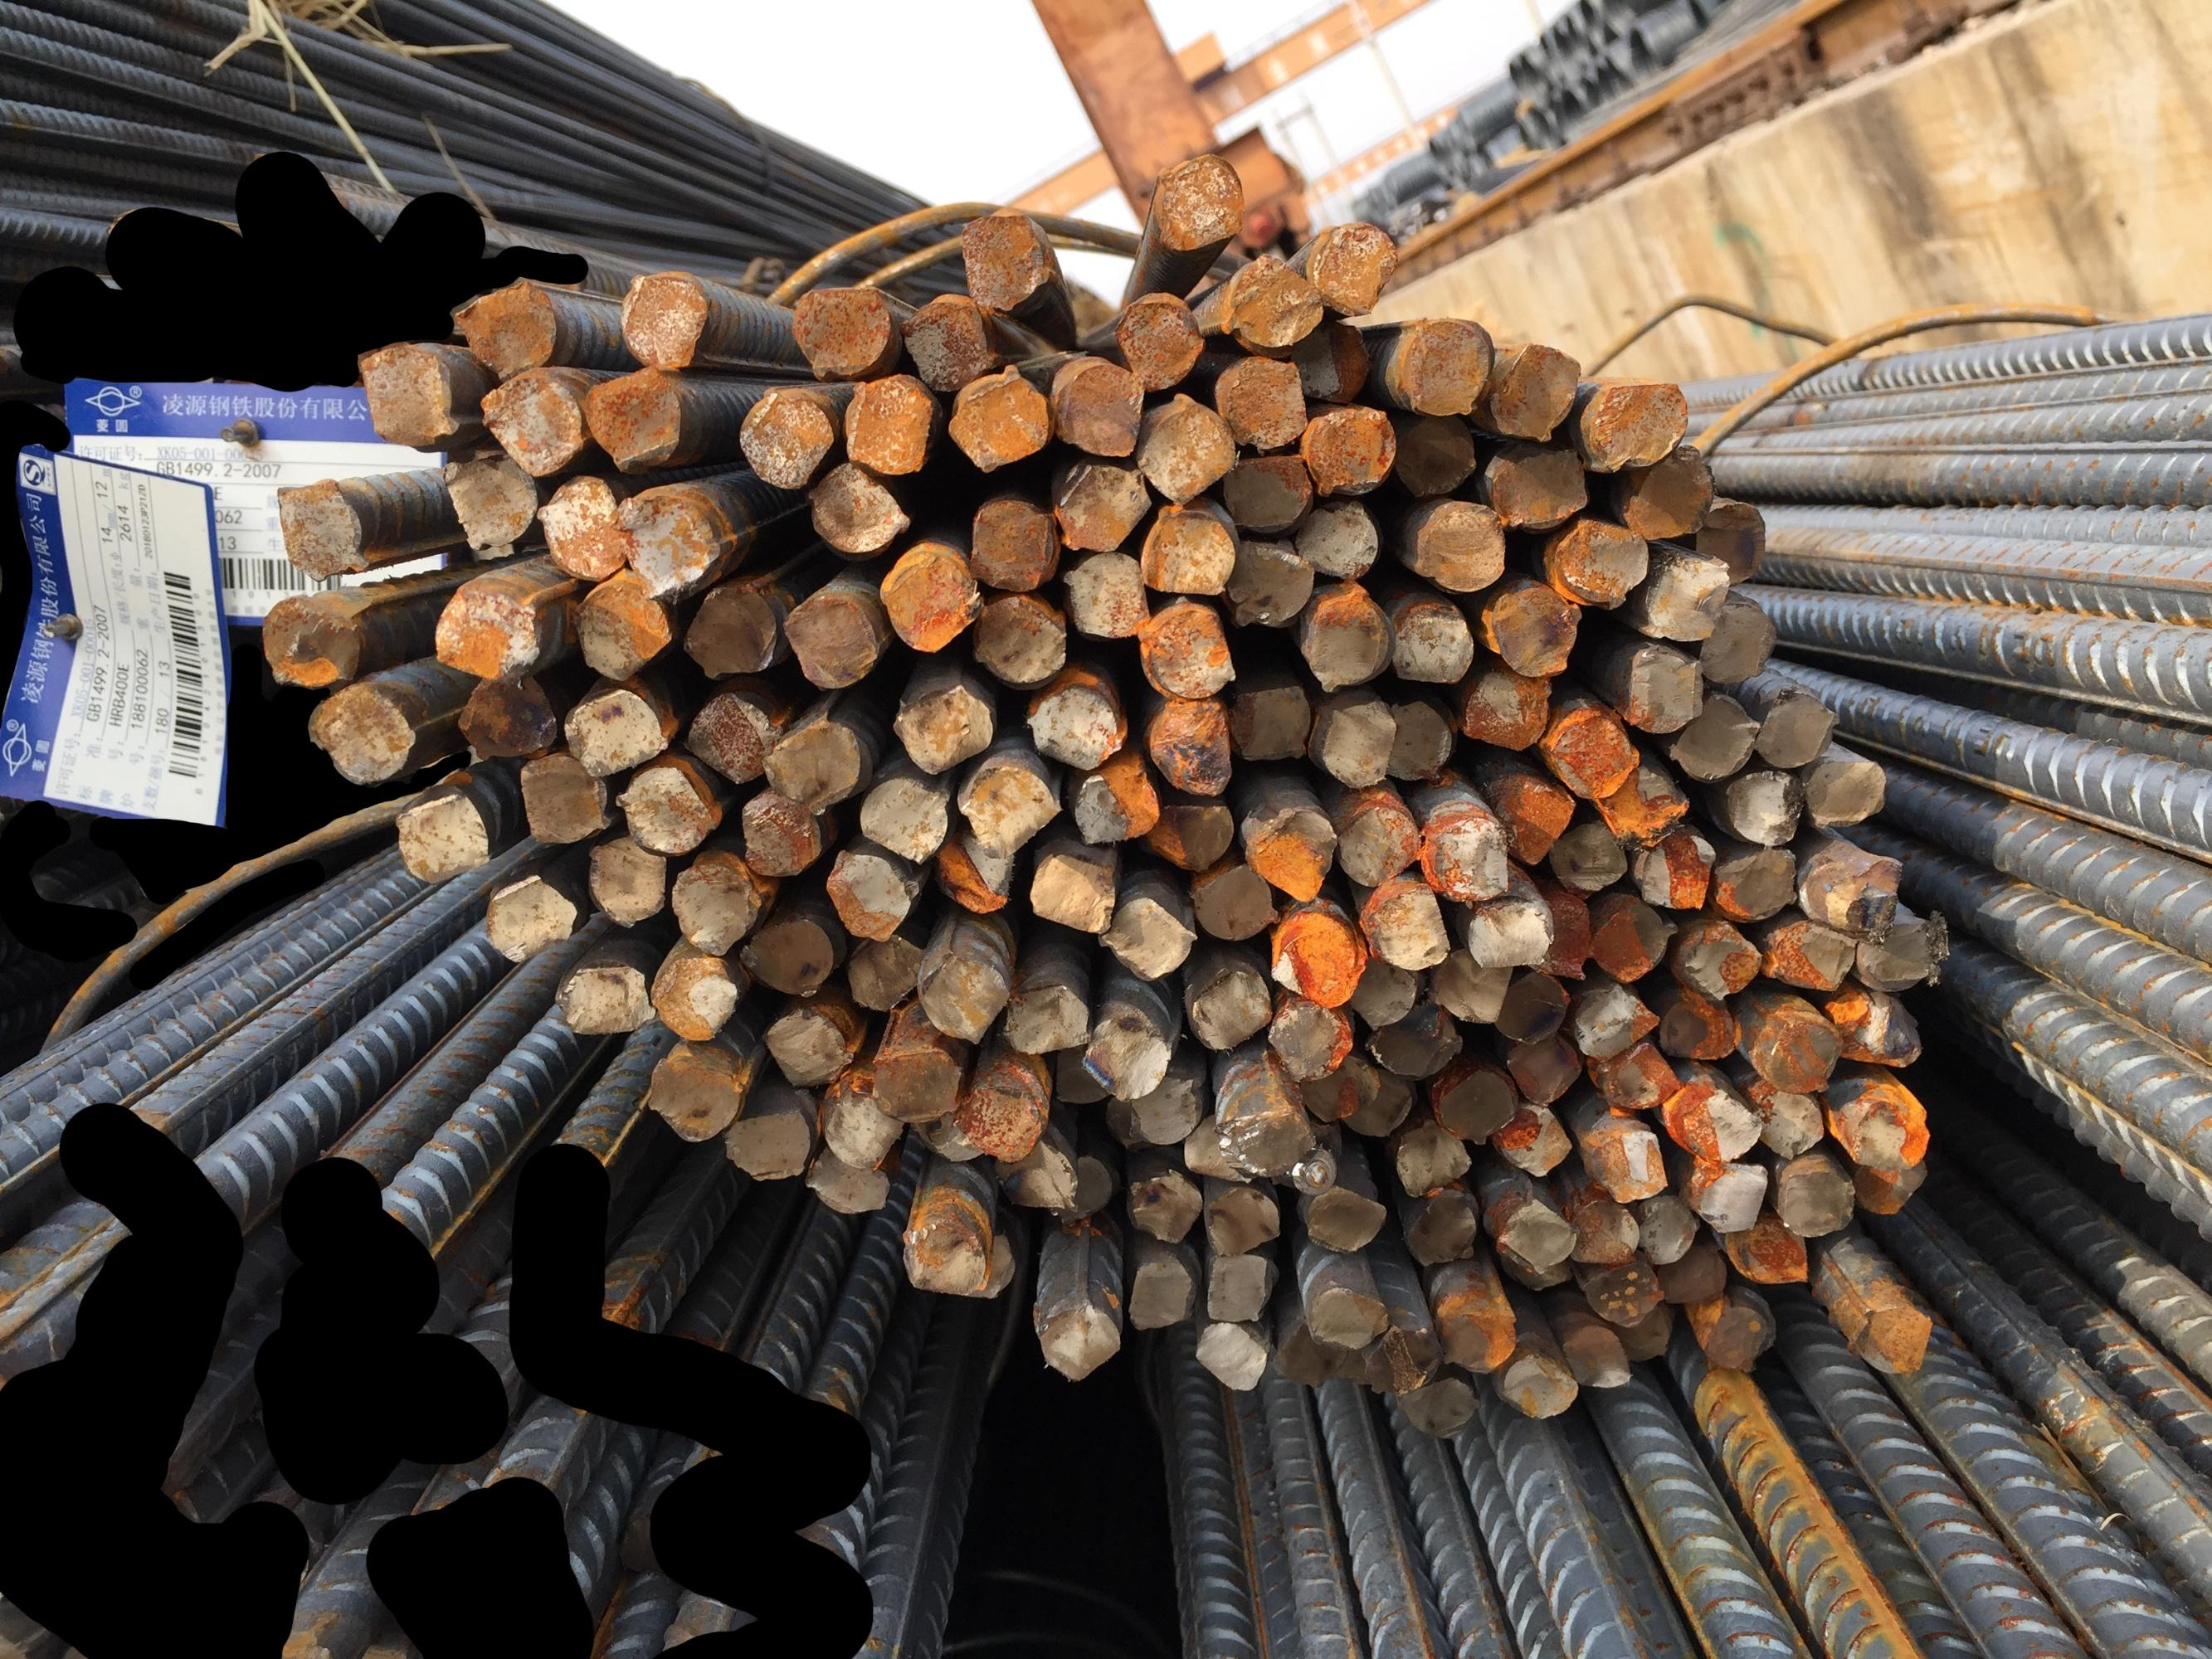bar: (603, 486, 722, 606), (469, 362, 587, 479), (868, 547, 988, 653), (295, 685, 420, 786), (565, 570, 675, 683), (943, 362, 1056, 472), (431, 573, 547, 680), (450, 268, 558, 382), (1131, 390, 1236, 507), (577, 356, 683, 469), (443, 664, 561, 762), (432, 448, 539, 556), (560, 681, 673, 781), (788, 279, 894, 383), (270, 474, 370, 586), (1795, 845, 1909, 943), (777, 589, 880, 695), (383, 784, 492, 885), (734, 383, 835, 491), (1611, 439, 1719, 540), (512, 748, 622, 847), (1541, 514, 1651, 613), (612, 268, 715, 373), (758, 711, 861, 816), (805, 457, 910, 559), (894, 295, 999, 397), (1388, 317, 1492, 420), (671, 579, 777, 680), (1480, 443, 1598, 533), (908, 946, 1016, 1046), (253, 594, 364, 690), (1293, 580, 1388, 694), (966, 591, 1070, 692), (1269, 903, 1368, 1009), (1414, 803, 1513, 910), (1142, 685, 1236, 796), (1485, 340, 1584, 444), (357, 347, 458, 448), (678, 683, 779, 784), (950, 209, 1051, 310), (1107, 291, 1208, 392), (1225, 249, 1325, 352), (1150, 148, 1246, 254), (1347, 875, 1454, 971), (535, 474, 628, 584), (891, 680, 992, 779), (1137, 601, 1236, 702), (1407, 497, 1508, 596), (614, 762, 716, 859), (814, 840, 912, 943), (959, 762, 1063, 857), (1584, 380, 1694, 471), (1210, 350, 1309, 450), (1049, 457, 1150, 554), (1473, 772, 1576, 868), (1049, 359, 1147, 458), (1381, 403, 1480, 500), (845, 373, 940, 476), (1306, 216, 1400, 319), (640, 1054, 746, 1145), (481, 868, 579, 965), (1300, 397, 1398, 495), (1382, 594, 1480, 692), (1021, 683, 1128, 772), (1241, 807, 1339, 903), (1743, 1000, 1842, 1094), (668, 856, 755, 962), (647, 953, 744, 1047), (1630, 551, 1727, 645), (1485, 587, 1586, 678), (1075, 1009, 1173, 1101), (1138, 504, 1236, 596), (736, 911, 835, 1002), (1663, 694, 1762, 784), (732, 788, 826, 882), (1218, 538, 1313, 633), (1548, 709, 1644, 802), (1661, 1082, 1769, 1164), (1593, 762, 1693, 850), (962, 502, 1055, 596), (1058, 547, 1150, 641), (760, 1000, 856, 1091), (852, 775, 948, 866), (1565, 974, 1663, 1063), (1095, 896, 1194, 983), (584, 829, 669, 931), (1333, 796, 1424, 890), (866, 1040, 964, 1127), (551, 962, 661, 1039), (1454, 669, 1551, 755), (950, 1075, 1042, 1164), (1618, 643, 1706, 735), (1713, 767, 1811, 850), (1213, 450, 1313, 532), (1264, 990, 1353, 1080), (1431, 1288, 1522, 1377), (1290, 314, 1377, 406), (1288, 495, 1381, 582), (816, 1084, 910, 1169), (1757, 917, 1856, 997), (1210, 1107, 1318, 1180), (840, 925, 929, 1014), (1220, 681, 1311, 769), (896, 1215, 992, 1297), (1184, 857, 1279, 939), (1318, 695, 1400, 791), (1851, 915, 1949, 995), (1705, 845, 1802, 925), (1687, 491, 1768, 589), (718, 1108, 818, 1187), (1034, 1297, 1124, 1382), (1426, 938, 1513, 1025), (927, 828, 1016, 913), (1677, 917, 1762, 1006), (1632, 826, 1717, 915), (1693, 598, 1778, 687), (1494, 1194, 1586, 1276), (1830, 990, 1923, 1072), (987, 1134, 1081, 1215), (1748, 687, 1844, 765), (1189, 967, 1274, 1054), (1070, 763, 1161, 845), (1140, 795, 1234, 873), (1030, 854, 1117, 938), (1429, 1063, 1518, 1145), (1590, 903, 1679, 985), (997, 979, 1091, 1056), (1797, 755, 1891, 831), (1381, 694, 1455, 789), (1365, 1009, 1468, 1079), (1715, 1215, 1813, 1288), (1844, 1094, 1935, 1173), (1654, 985, 1738, 1068), (1543, 817, 1628, 899), (804, 1140, 892, 1218), (1487, 1101, 1576, 1180), (1462, 899, 1562, 969), (1196, 1180, 1285, 1256), (1848, 1297, 1933, 1375), (1299, 1284, 1396, 1352), (1527, 887, 1595, 985), (1119, 1168, 1203, 1246), (1302, 1185, 1389, 1260), (1593, 1042, 1682, 1115), (1196, 1248, 1276, 1328), (1400, 1188, 1480, 1269), (1492, 969, 1572, 1049), (1391, 1121, 1473, 1199), (1560, 1192, 1644, 1269), (1588, 1129, 1672, 1206), (1361, 1324, 1447, 1399), (1576, 1262, 1670, 1328), (1684, 1157, 1766, 1232), (1773, 1164, 1856, 1237), (1344, 950, 1421, 1028), (1748, 1084, 1827, 1161), (1503, 1033, 1584, 1107), (1192, 1317, 1269, 1394), (1851, 1148, 1933, 1218), (1123, 1070, 1199, 1143), (1269, 1317, 1347, 1389), (1703, 1298, 1774, 1377), (1286, 1054, 1375, 1117), (1124, 1255, 1196, 1331), (1628, 1192, 1700, 1269), (1393, 1377, 1485, 1436), (1503, 1351, 1581, 1420), (1346, 1065, 1417, 1140), (1558, 1321, 1633, 1392), (1651, 1243, 1729, 1309), (1178, 1114, 1250, 1185), (1272, 1124, 1351, 1188), (910, 1107, 987, 1164), (1496, 1239, 1576, 1293), (1053, 1154, 1112, 1225), (959, 1230, 1020, 1298), (1611, 1305, 1680, 1364), (1044, 1042, 1107, 1107), (1098, 1087, 1150, 1152), (1340, 1337, 1386, 1394)
